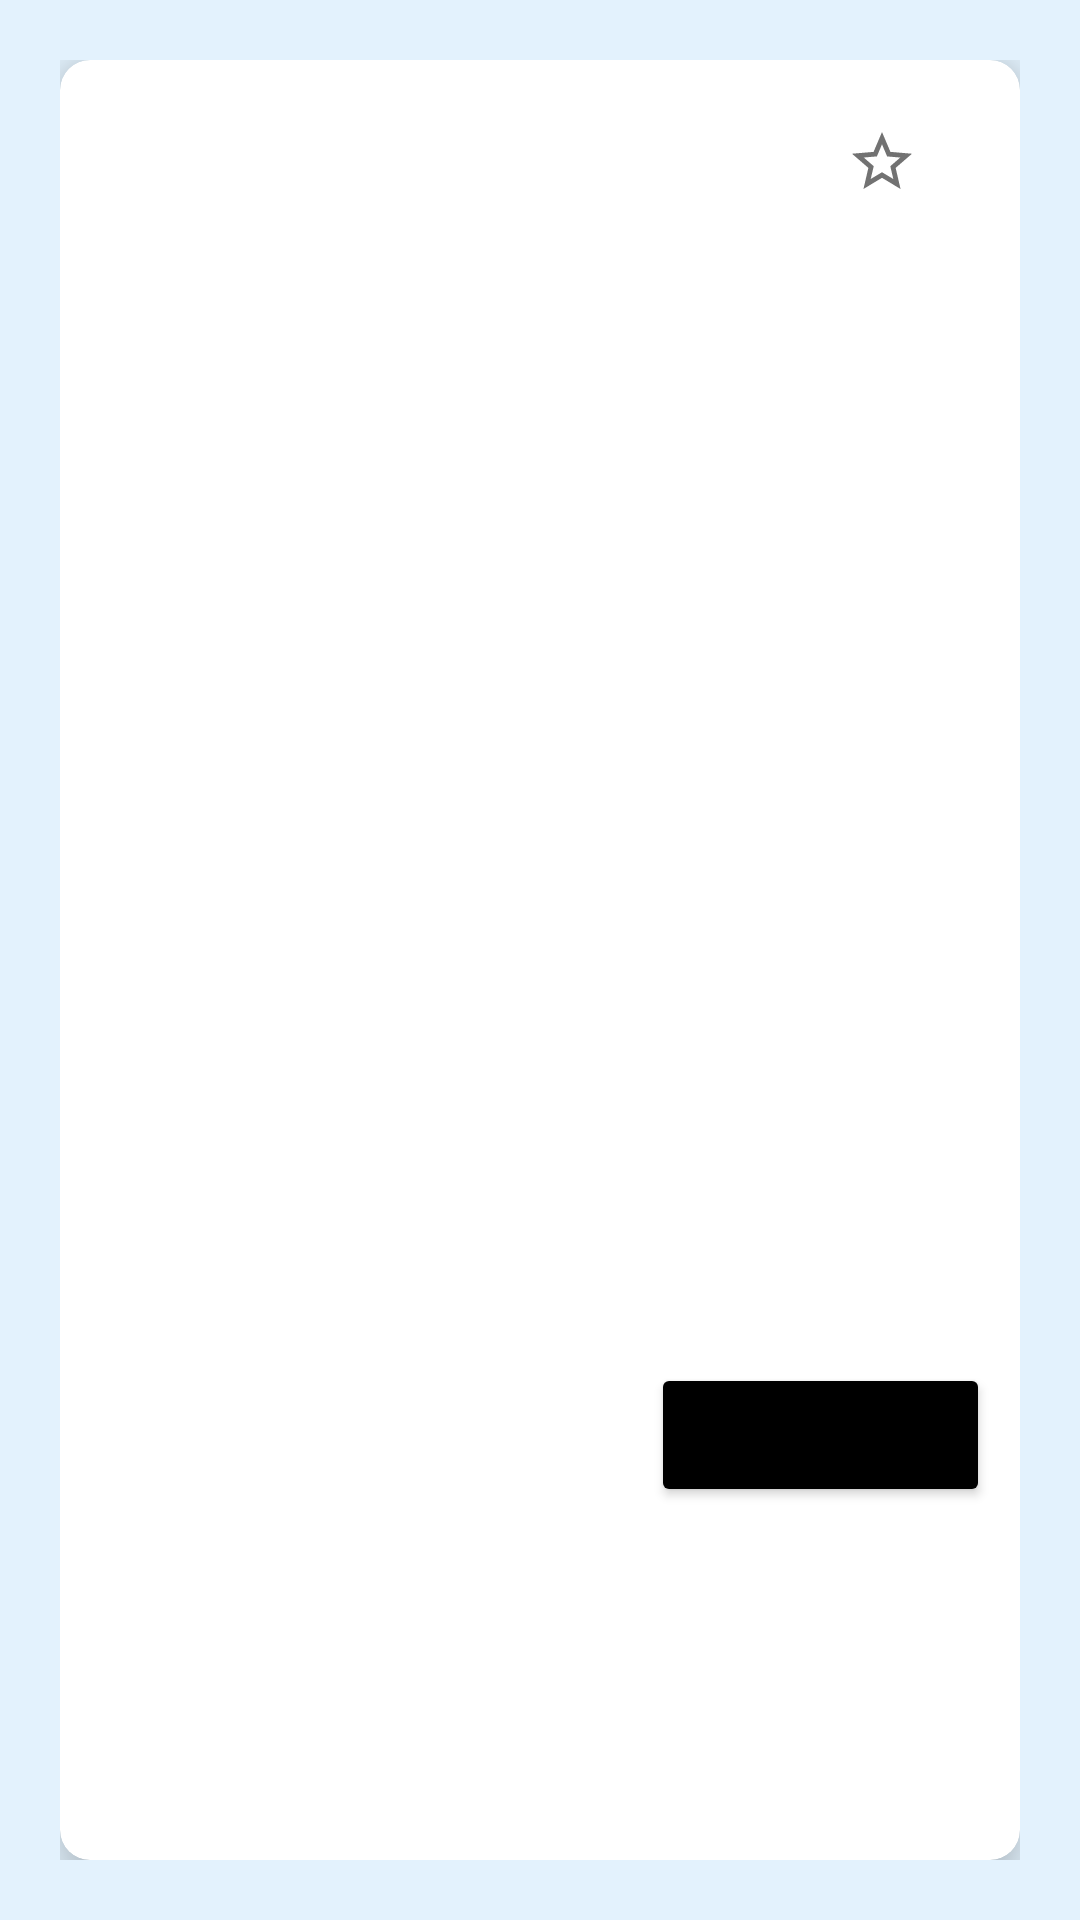

Locate icon controls on the screen. Image size 1080 x 1920, boxes as detection(x1, y1, x2, y2).
wish list item: detection(852, 132, 912, 189)
